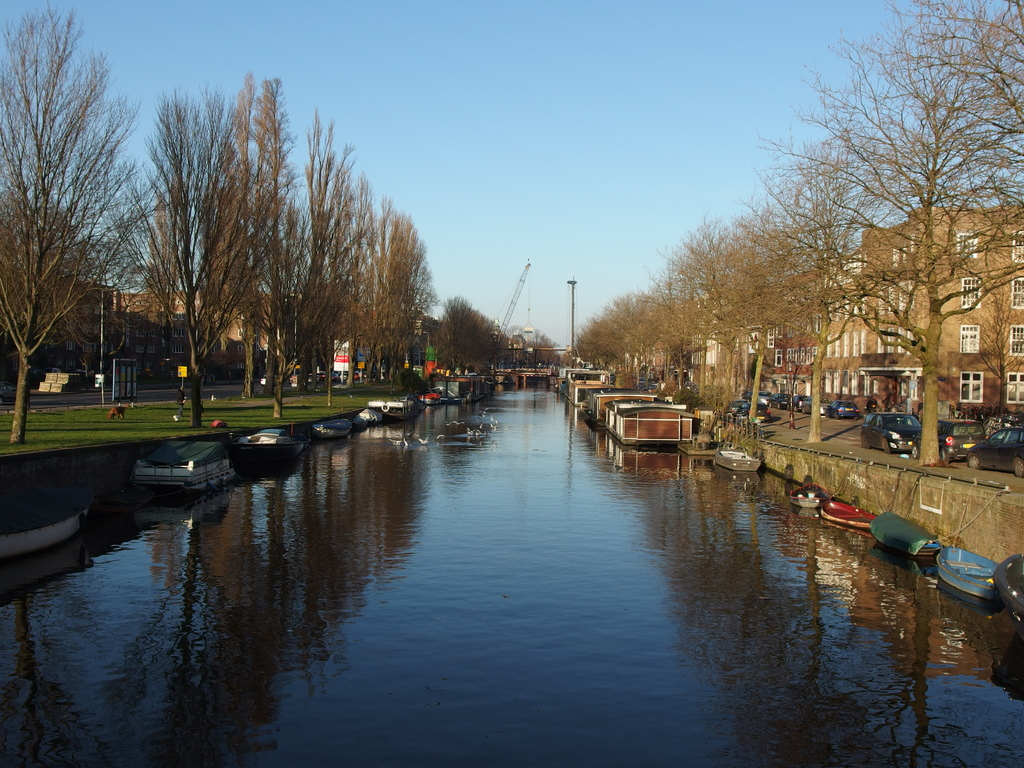Tree: (563, 0, 1022, 474), (137, 63, 531, 427), (8, 21, 135, 387), (512, 318, 571, 384)
